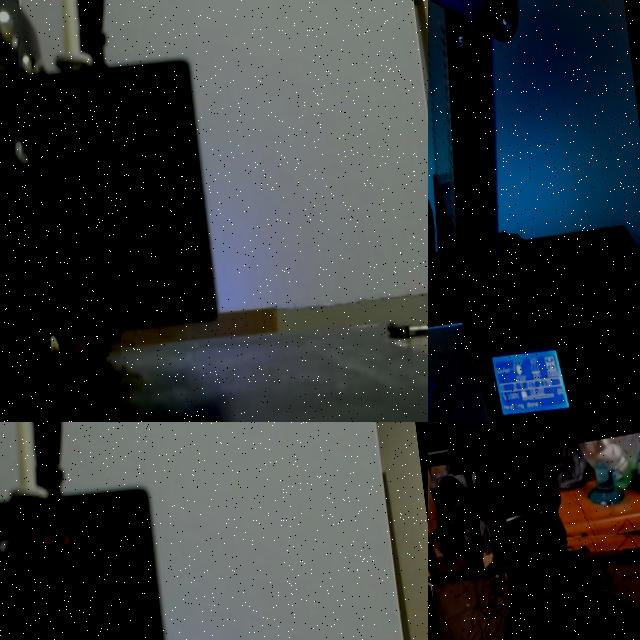spaghetti: (445, 536, 640, 640), (50, 338, 123, 388)
